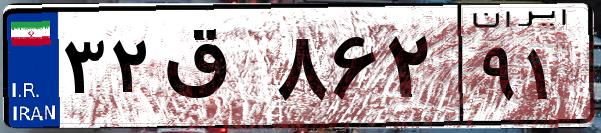1: (525, 38, 570, 115)
2: (385, 28, 445, 110), (110, 28, 158, 98)
3: (57, 26, 110, 100)
6: (330, 28, 385, 110)
8: (270, 28, 330, 110)
9: (475, 38, 525, 113)
ق: (158, 20, 270, 120)
